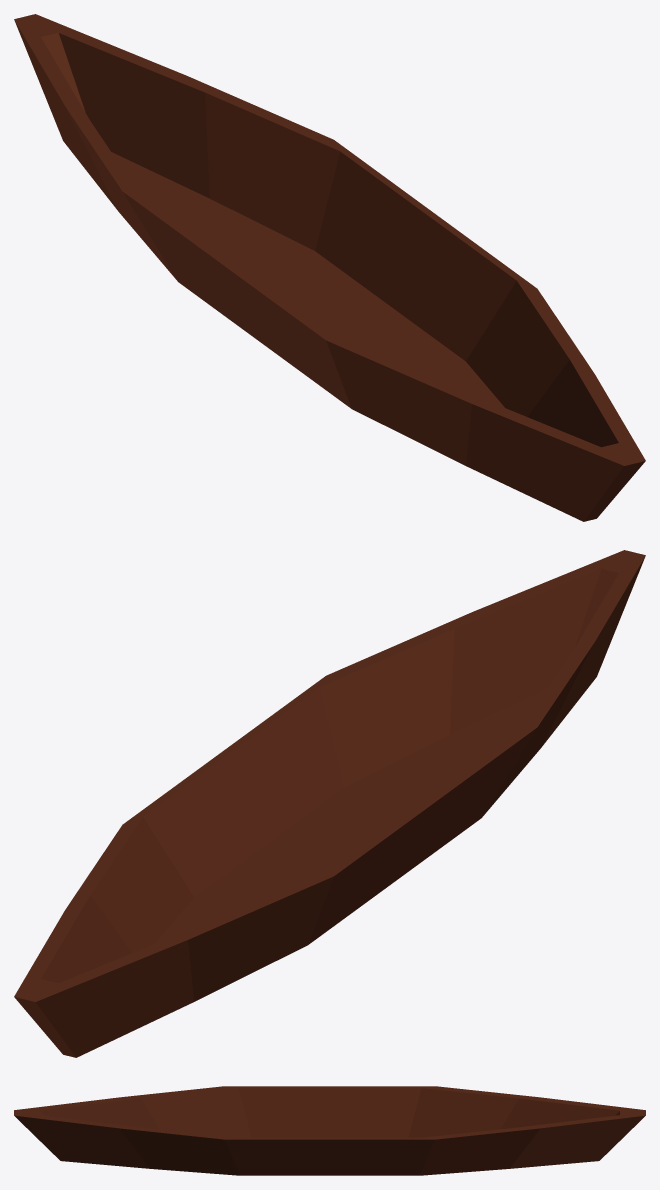
The model's file is canoe.fbx.
3 views of the same model, one above another, from view 1: azimuth 30°, elevation 25°; view 2: azimuth 150°, elevation 25°; view 3: azimuth 270°, elevation 25° (orthographic). The views are drawn at different scales.
Visible parts, largest first — view 1: Plane; view 2: Plane; view 3: Plane.
Part boxes in pixels (left/top/right/bottom): Plane: left=14, top=14, right=645, bottom=521; Plane: left=14, top=550, right=645, bottom=1057; Plane: left=14, top=1086, right=645, bottom=1175.
Bounding box in the file's own units: 240 × 97.4 × 1200.
